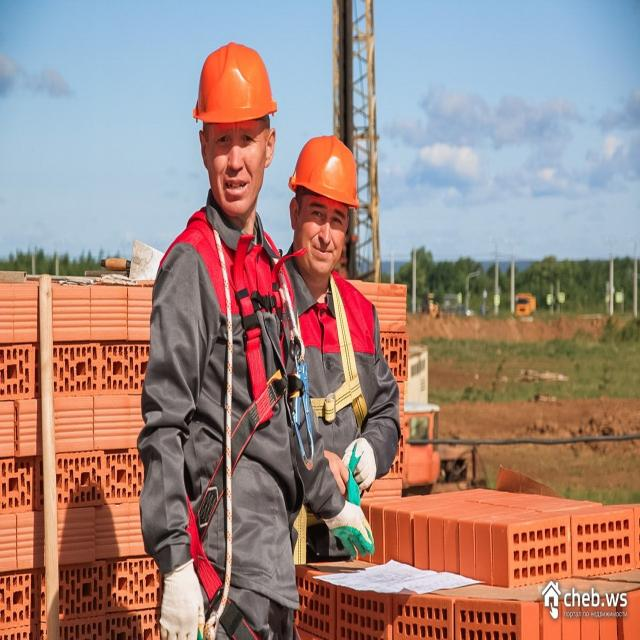Helmet: (193, 44, 280, 132), (289, 132, 362, 211)
NoJacket: (182, 191, 283, 539), (294, 234, 364, 442)
